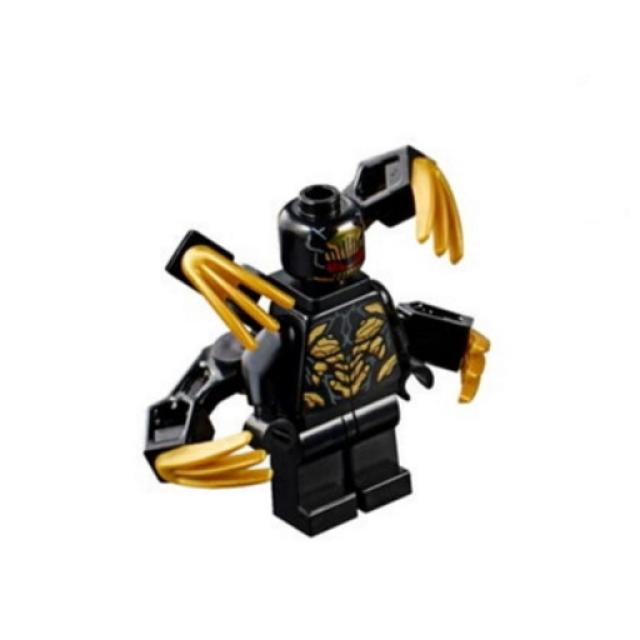Lego-Minifigures: (108, 124, 512, 554)
